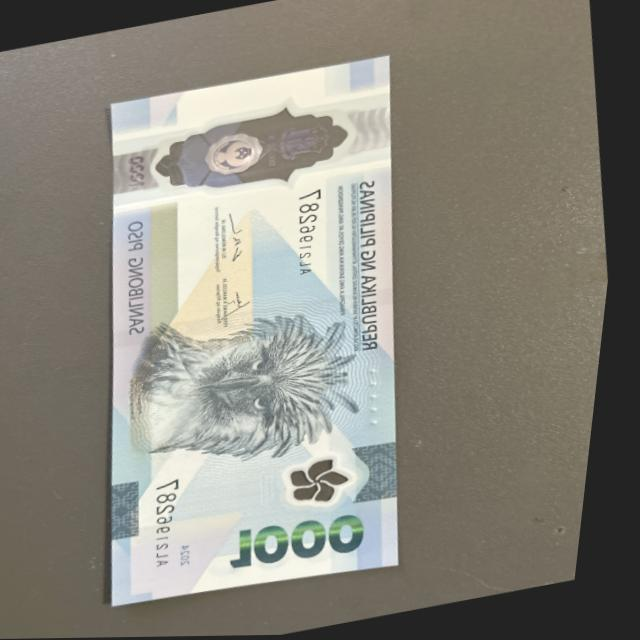clear_window: (111, 83, 407, 215)
eagle: (115, 309, 384, 476)
sampaguita: (290, 452, 371, 511)
